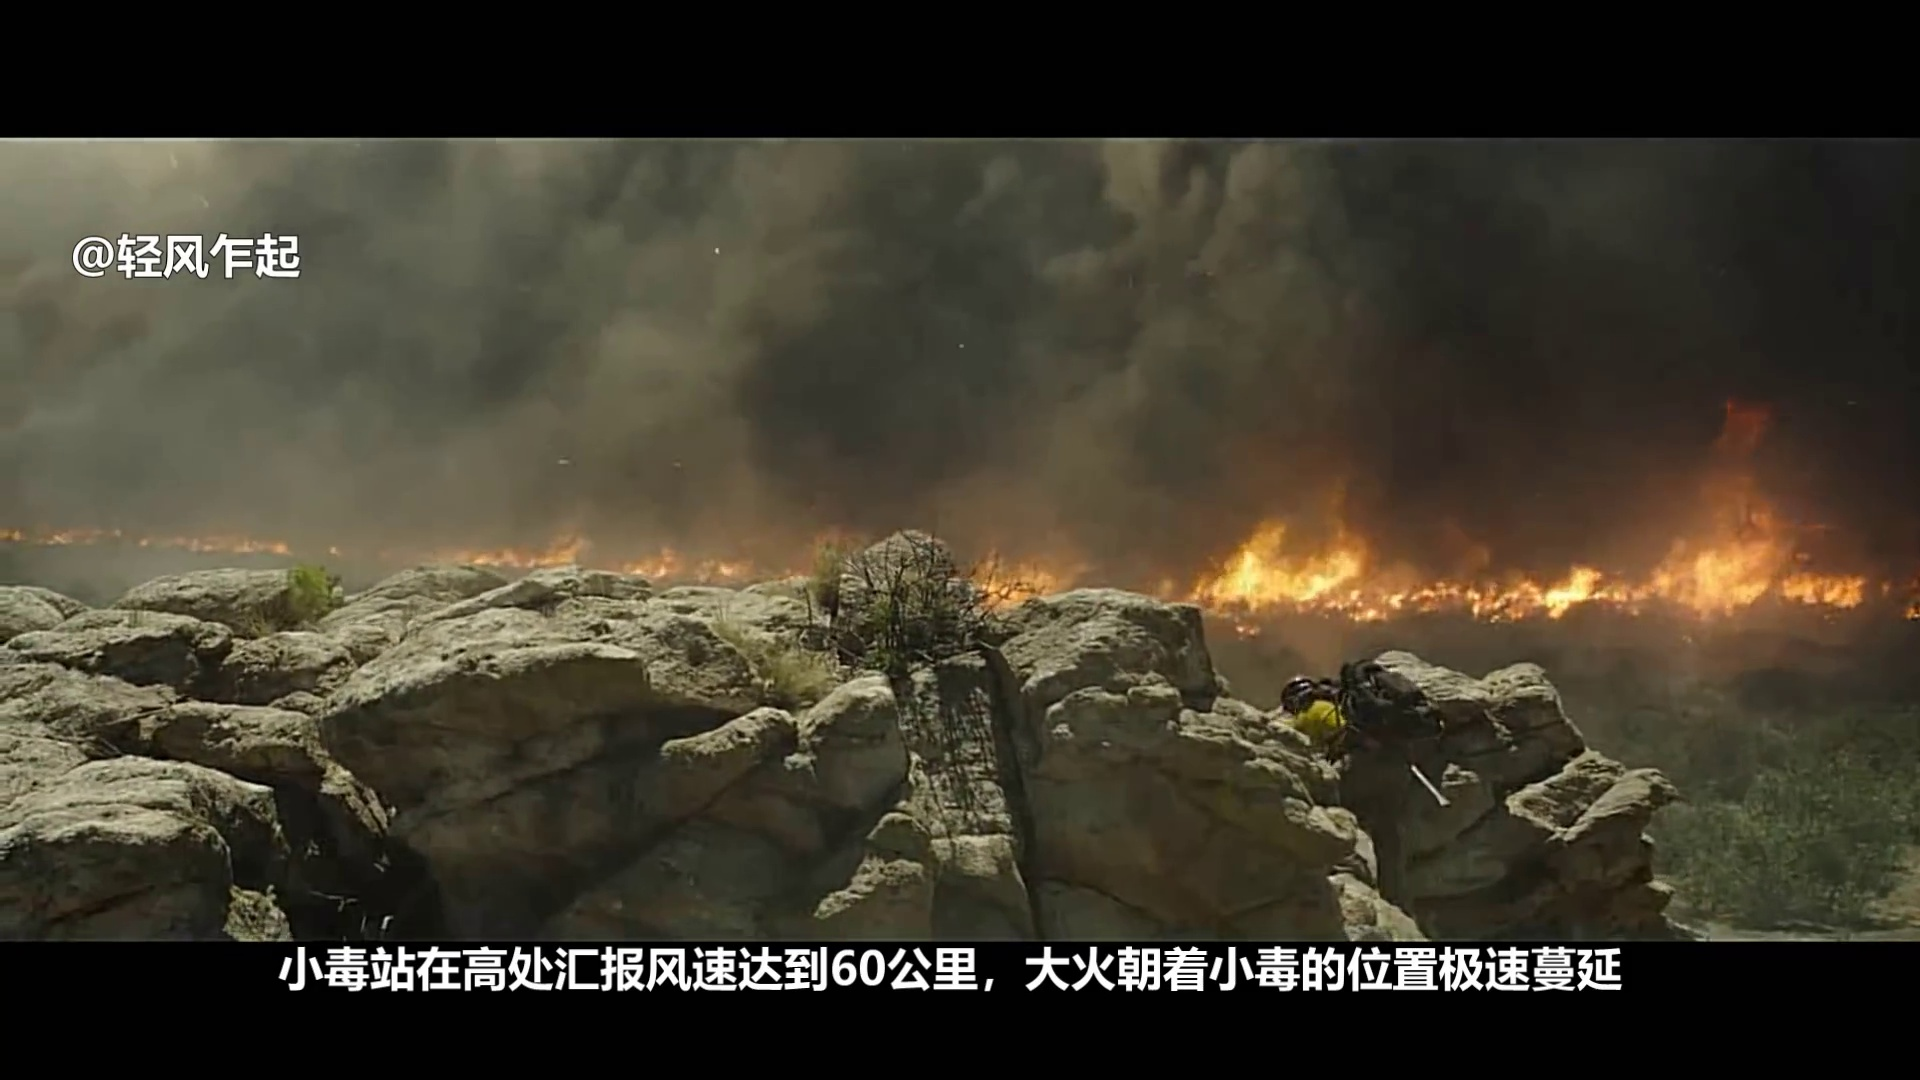fire: (1209, 541, 1360, 604), (1665, 539, 1774, 601), (1501, 564, 1600, 607), (1800, 574, 1865, 605)
